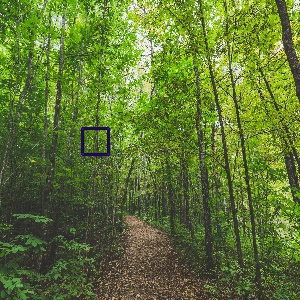square: (80, 126, 112, 157)
